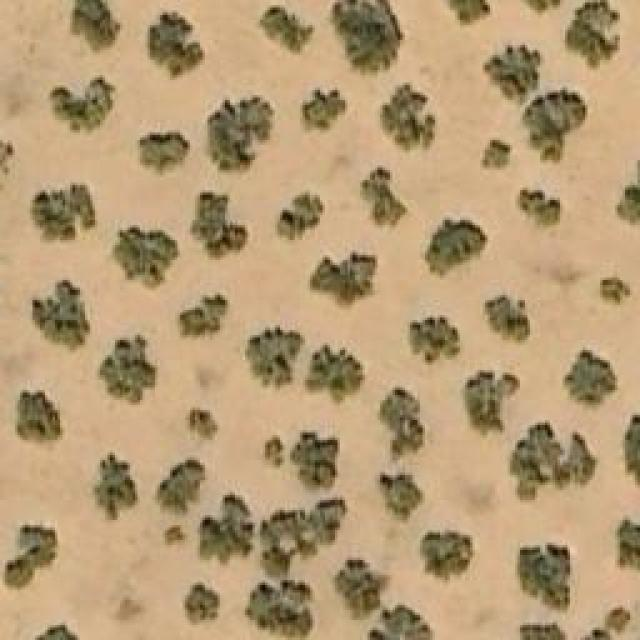Tree: (510, 423, 598, 503), (258, 498, 348, 573), (203, 95, 273, 178), (105, 225, 183, 293), (332, 0, 402, 72), (523, 90, 588, 163), (145, 13, 205, 86), (460, 370, 520, 443), (32, 278, 90, 353), (190, 190, 248, 263), (377, 83, 435, 156), (308, 253, 378, 313), (247, 577, 312, 640), (28, 185, 98, 243), (98, 338, 158, 403), (565, 0, 620, 70), (305, 343, 365, 406), (50, 77, 115, 135), (3, 522, 58, 590), (200, 493, 253, 563), (425, 217, 488, 275), (485, 43, 543, 103), (248, 328, 303, 391), (563, 348, 618, 411), (378, 388, 423, 463), (520, 545, 570, 608), (93, 452, 138, 520), (15, 390, 63, 453), (335, 553, 383, 616), (155, 458, 205, 518), (418, 528, 473, 581), (257, 7, 315, 55), (360, 167, 408, 225), (69, 0, 122, 52), (408, 318, 463, 368), (292, 433, 340, 488), (178, 292, 231, 340), (482, 293, 530, 346), (138, 130, 193, 175), (277, 193, 325, 243), (515, 188, 563, 238), (378, 473, 423, 526), (373, 603, 436, 638), (303, 88, 348, 133), (182, 582, 220, 630), (620, 410, 640, 488), (598, 270, 633, 308), (480, 138, 518, 171), (447, 0, 502, 22), (615, 183, 640, 231), (620, 520, 640, 570), (185, 408, 218, 438), (260, 435, 285, 468), (523, 622, 566, 640), (160, 525, 185, 553)
